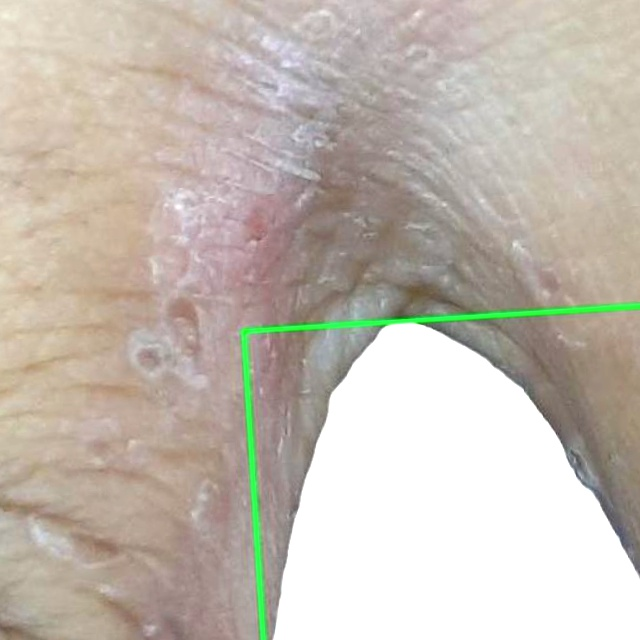Scabies: (242, 307, 639, 639)
